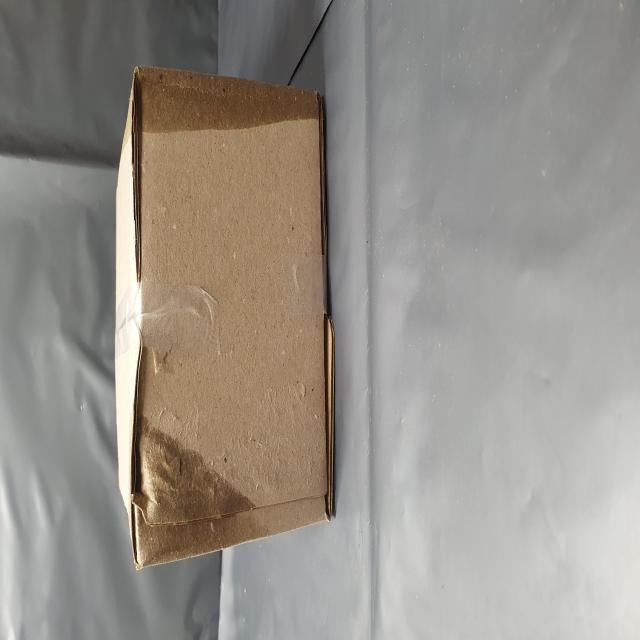wet: (45, 220, 134, 444), (268, 234, 324, 562)
